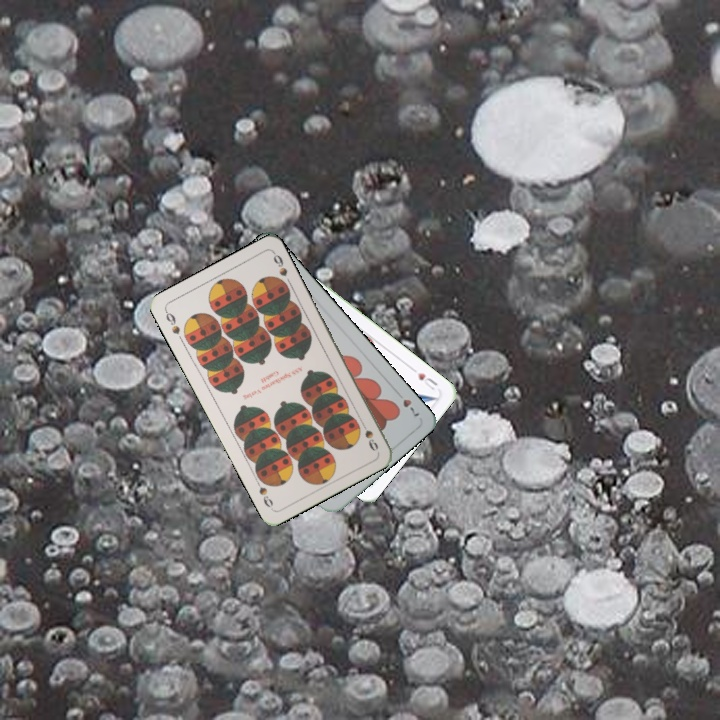H7: (392, 387, 422, 419)
HU: (407, 364, 440, 393)
S9: (356, 416, 381, 454), (161, 306, 183, 337)
